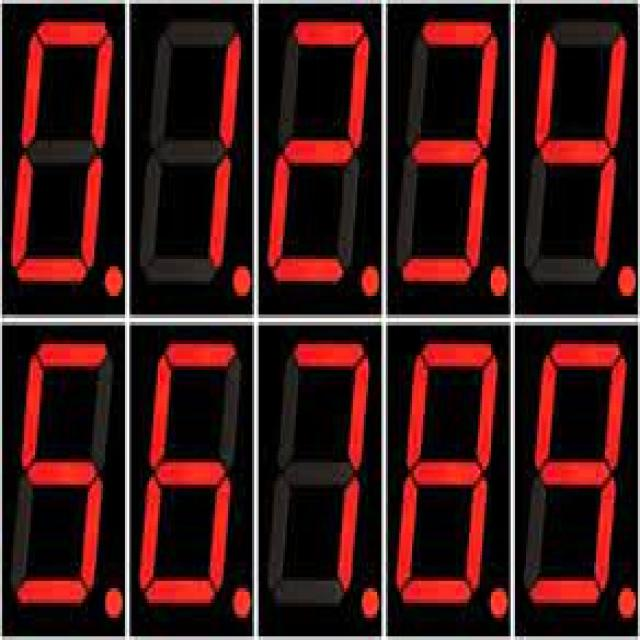.: (230, 256, 251, 300), (102, 263, 125, 298), (102, 587, 125, 622), (360, 584, 381, 620), (361, 261, 382, 297), (616, 264, 636, 300), (488, 586, 508, 622), (232, 584, 252, 618), (616, 587, 636, 618), (490, 264, 508, 298)
0: (8, 17, 116, 290)
1: (206, 31, 241, 272)
2: (264, 17, 371, 287)
3: (398, 12, 498, 288)
4: (532, 15, 630, 275)
5: (12, 335, 109, 610)
6: (138, 336, 238, 606)
7: (292, 336, 368, 594)
8: (397, 331, 500, 603)
9: (530, 340, 628, 607)
